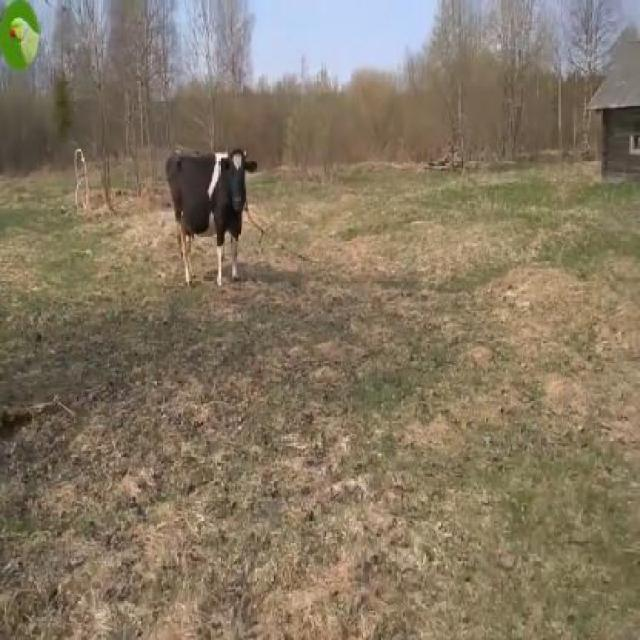Cow: (166, 148, 254, 289)
